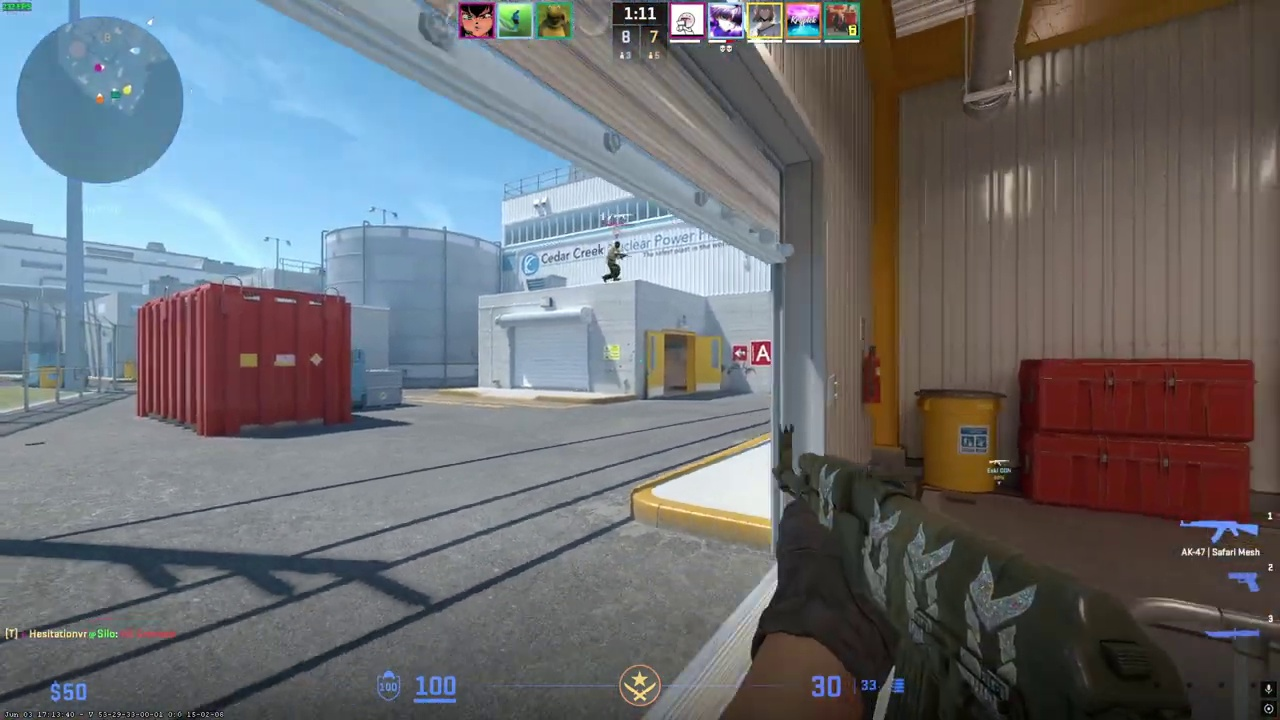Terrorist: (602, 240, 624, 282)
